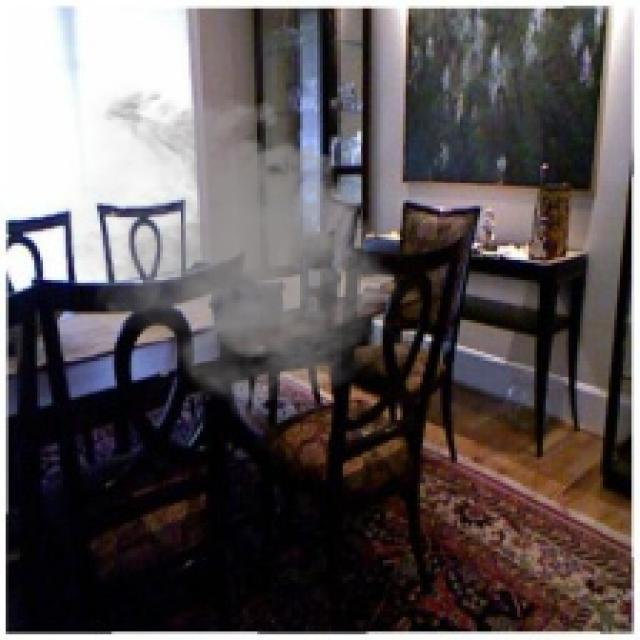Smoke: (42, 80, 412, 426)
